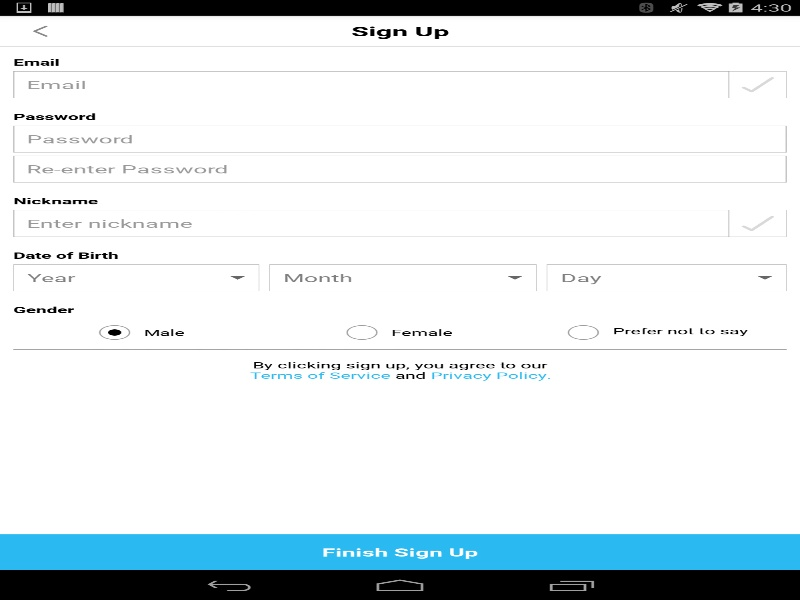Button: (0, 534, 800, 570), (269, 264, 536, 291), (13, 264, 259, 291), (546, 264, 786, 291), (0, 15, 80, 46), (729, 71, 786, 97), (729, 210, 786, 236), (98, 325, 130, 340), (346, 325, 378, 340), (567, 325, 599, 340)
Input: (26, 125, 773, 152), (26, 155, 773, 182), (26, 71, 716, 98), (26, 210, 716, 236), (283, 270, 507, 285), (27, 270, 229, 285), (560, 270, 757, 285)
